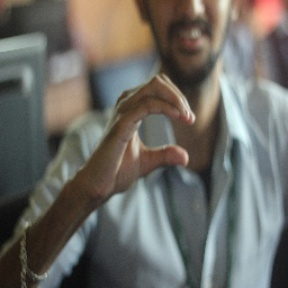C: (115, 71, 200, 178)
